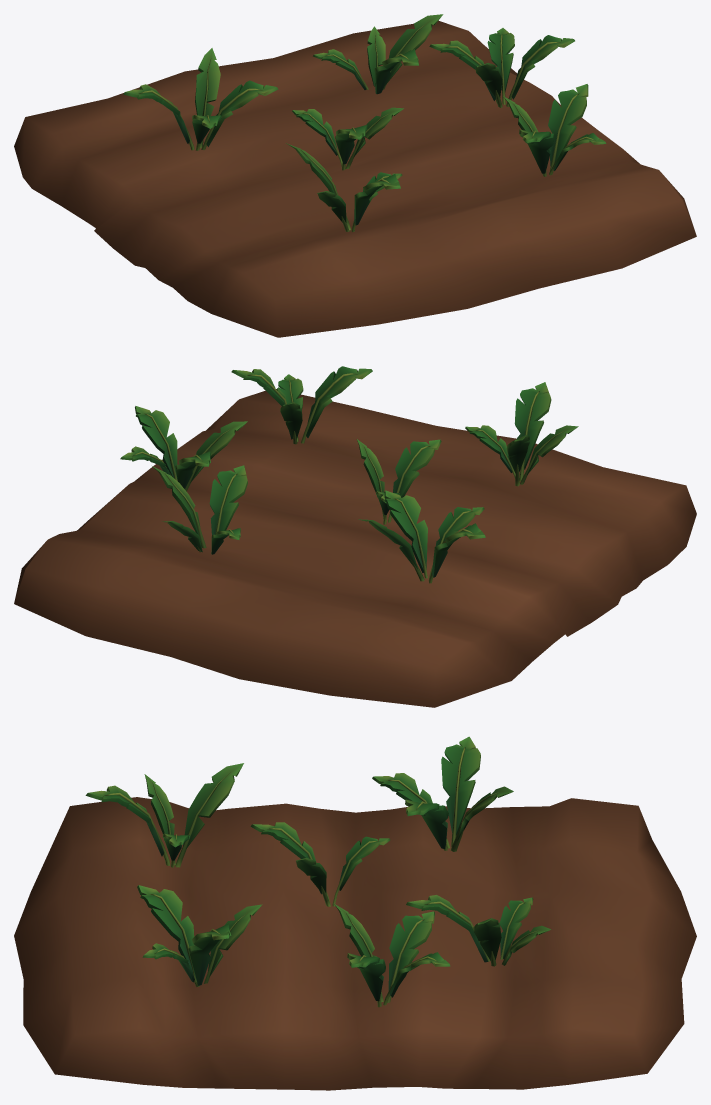
Rendered from SM_PlantSoil_Carrot_Lv2.fbx.
3 renders of one model, top to bottom at view 1: azimuth 30°, elevation 25°; view 2: azimuth 150°, elevation 25°; view 3: azimuth 270°, elevation 25°, orthographic. The views are drawn at different scales.
Parts seen in each view (by area): view 1: SM_PlantSoil_Carrot_Lv2; view 2: SM_PlantSoil_Carrot_Lv2; view 3: SM_PlantSoil_Carrot_Lv2.
Part boxes in pixels (<box>): SM_PlantSoil_Carrot_Lv2: <box>14,14,696,337</box>; SM_PlantSoil_Carrot_Lv2: <box>14,366,696,707</box>; SM_PlantSoil_Carrot_Lv2: <box>14,736,696,1090</box>.
Bounding box in the file's own units: 96.14 × 21.69 × 103.
